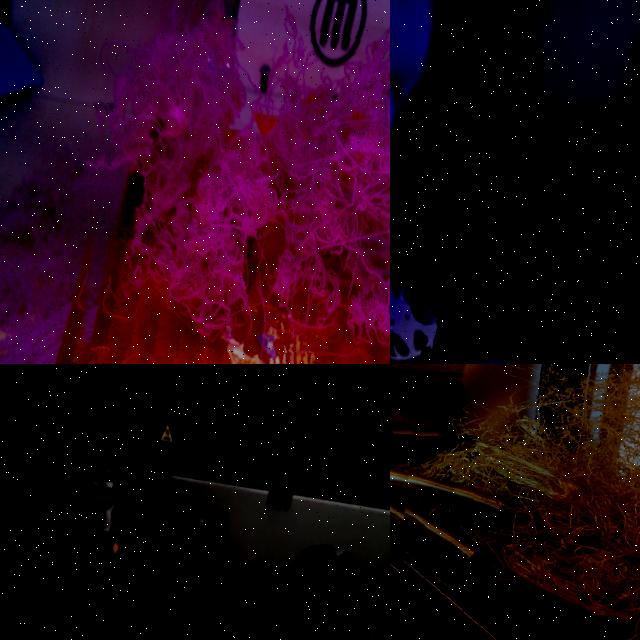spaghetti: (50, 0, 390, 364), (390, 364, 640, 640), (0, 132, 105, 364)
